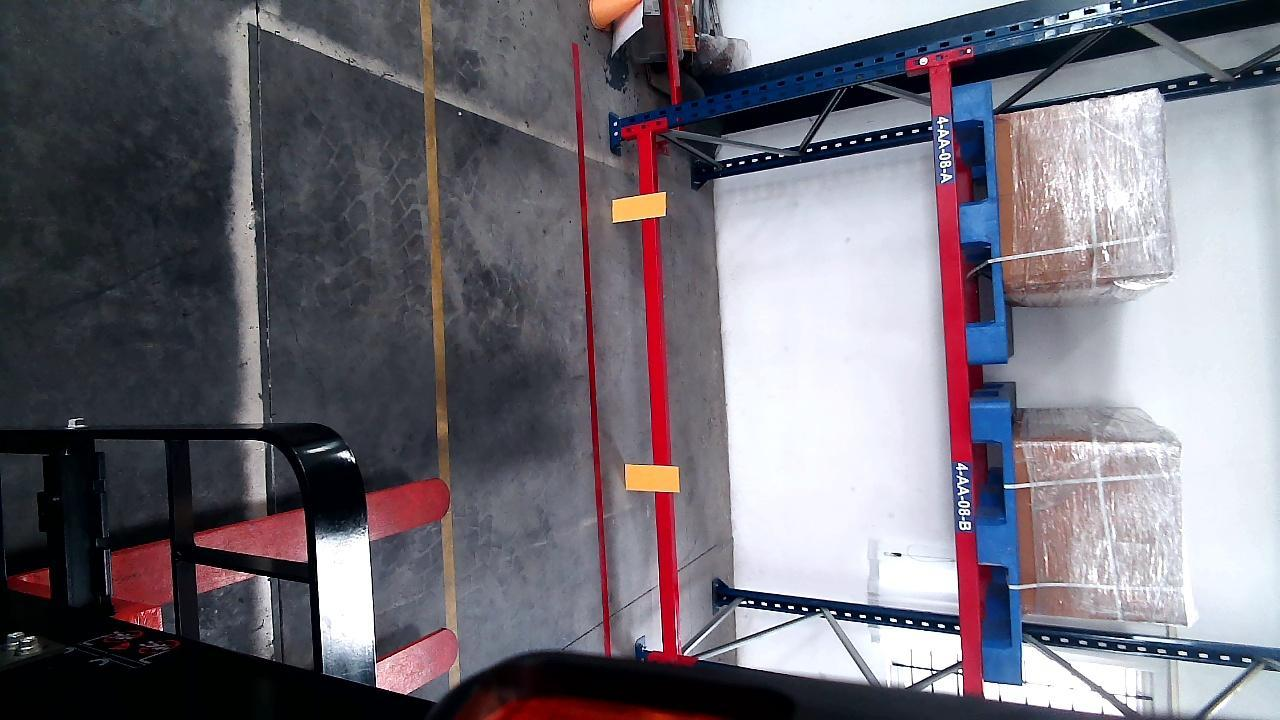red_line: (568, 46, 610, 656)
yellow_line: (421, 0, 460, 686)
